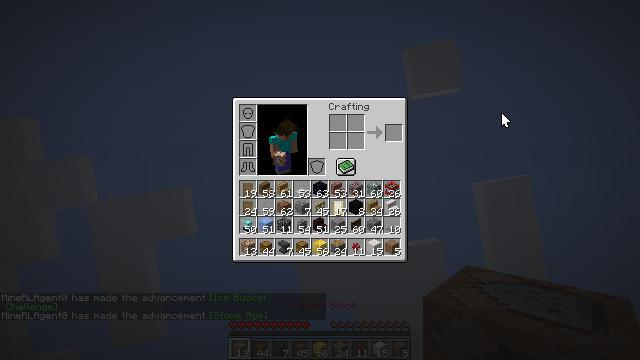cursor: (501, 112, 511, 128)
